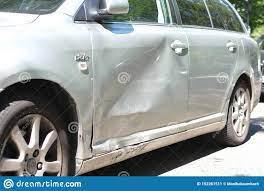RunningBoard-Dent: (75, 138, 197, 169)
doorouter-dent: (90, 26, 186, 134), (186, 31, 246, 121)
